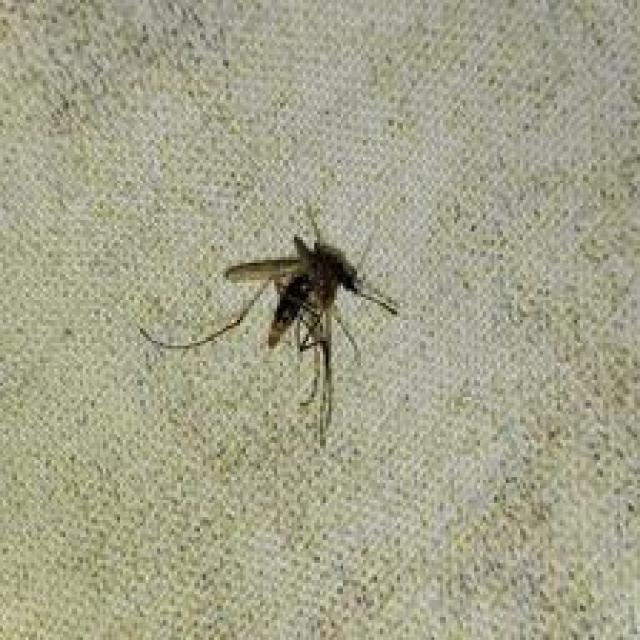Culex: (138, 200, 402, 449)
